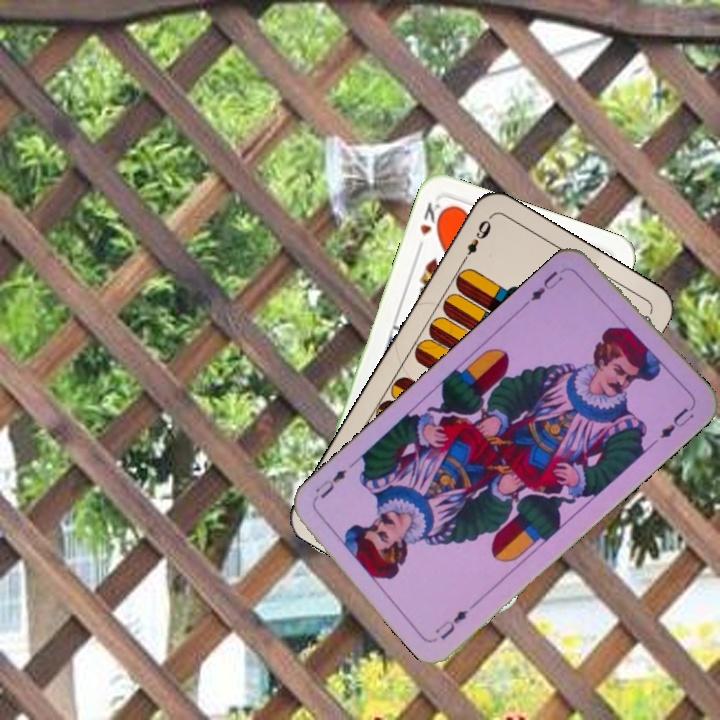E9: (457, 213, 494, 267)
EU: (521, 267, 566, 308), (430, 605, 470, 642)
HK: (412, 198, 448, 254)
